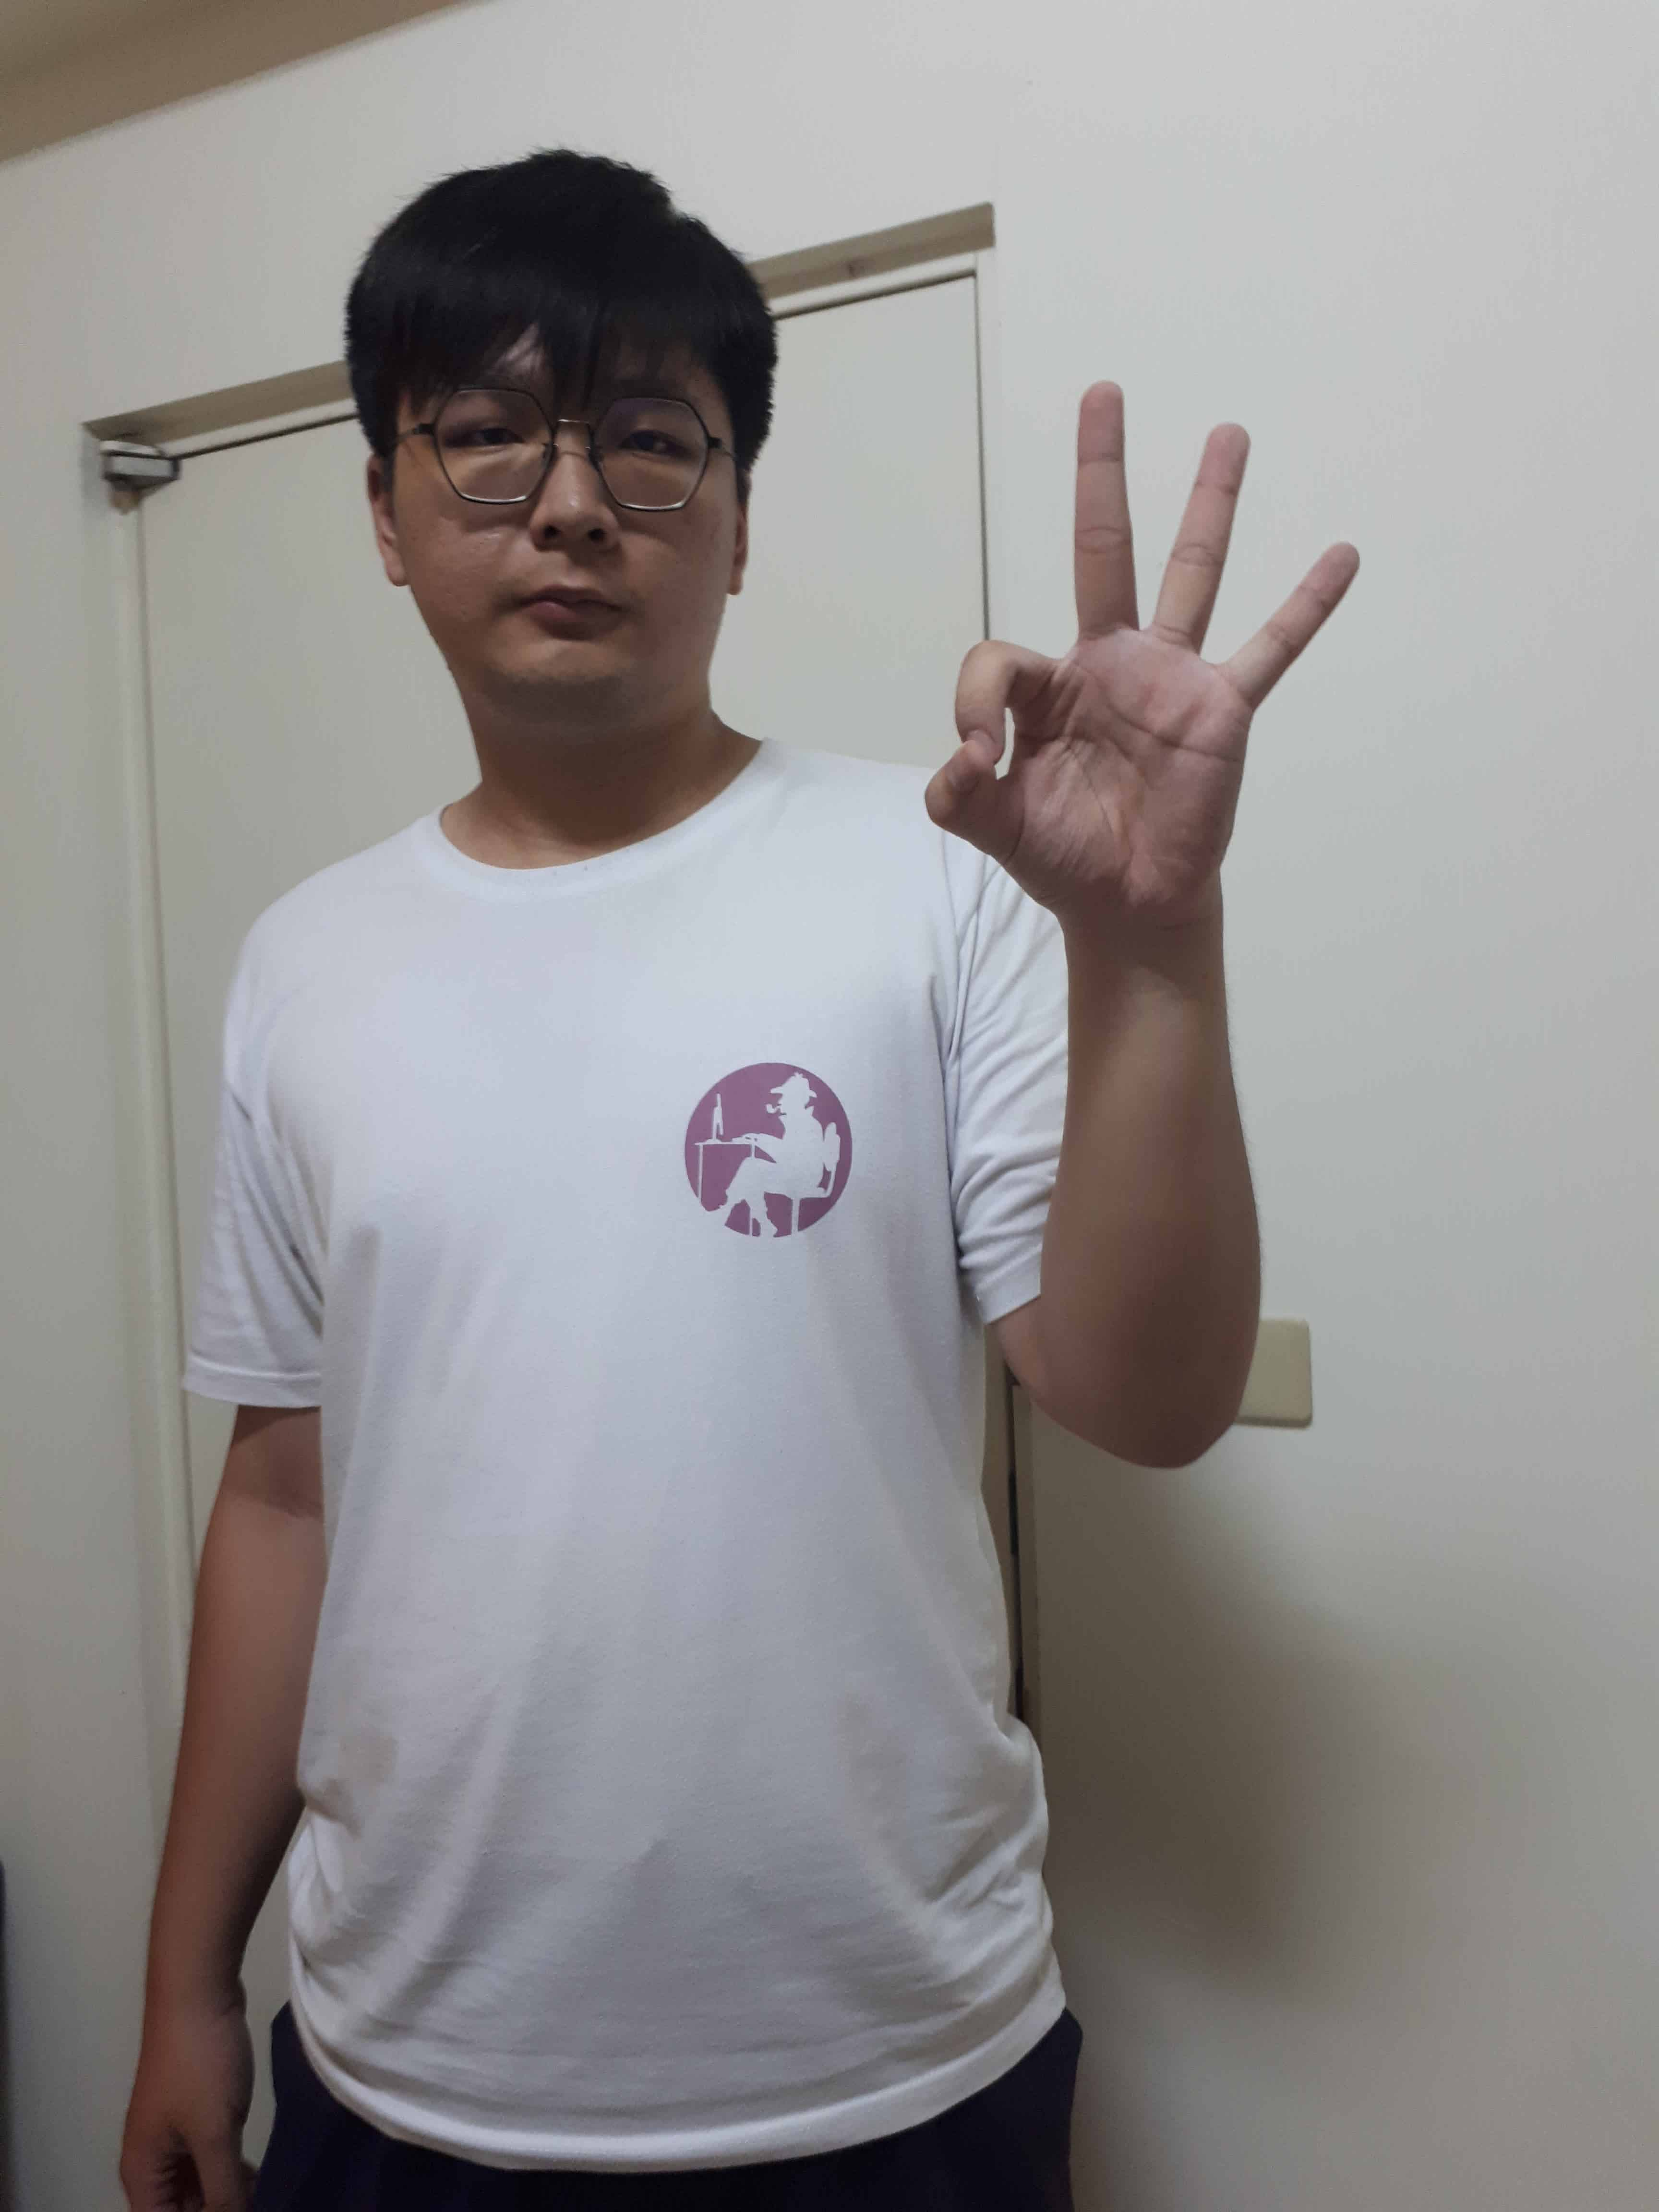ok: (906, 368, 1373, 911)
